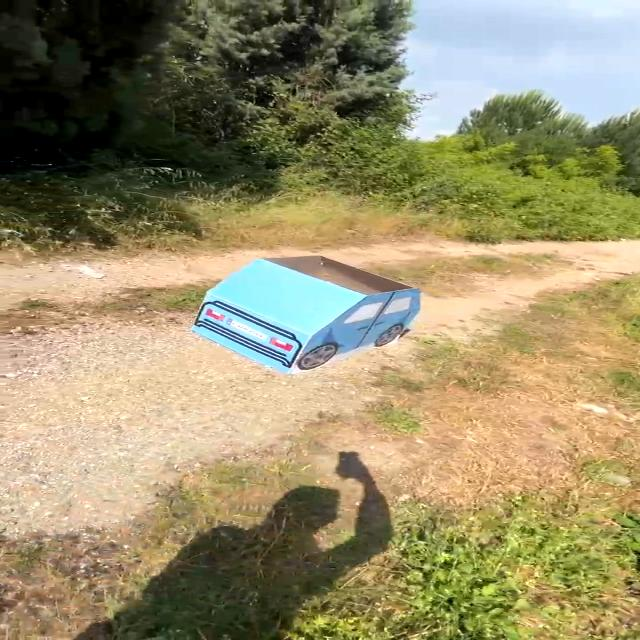blue_car: (165, 239, 437, 382)
